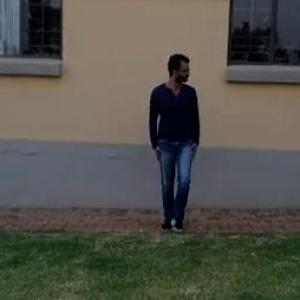follow: (150, 52, 202, 228)
